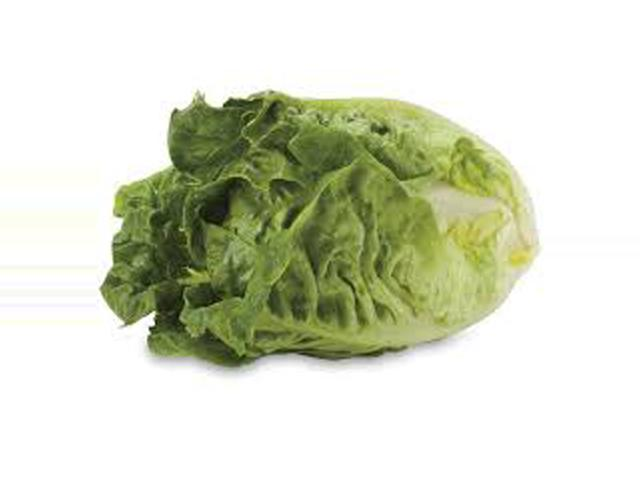lettuce: (157, 203, 313, 369)
